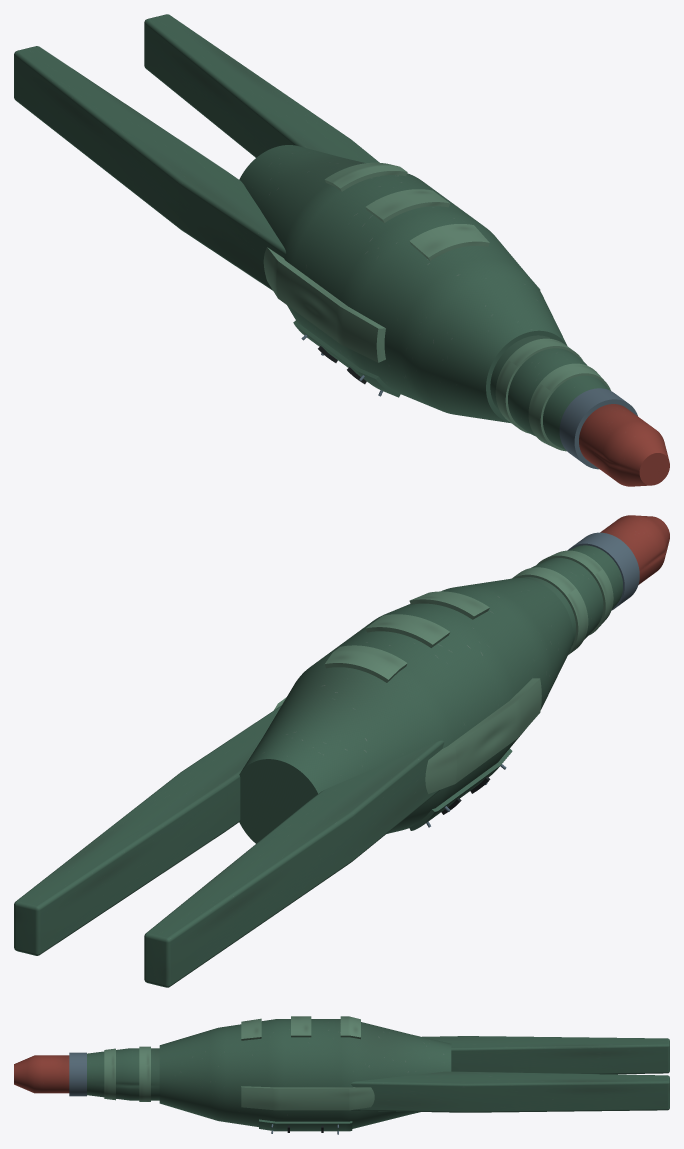
3 renders of one model, top to bottom at view 1: azimuth 30°, elevation 25°; view 2: azimuth 150°, elevation 25°; view 3: azimuth 270°, elevation 25°, orthographic. The views are drawn at different scales.
Parts seen in each view (by area): view 1: Rigellian Viral Repair green core, Rigellian Viral Repair rear prong 0, Rigellian Viral Repair rear prong 1, Rigellian Viral Repair red forward end, Rigellian Viral Repair pale body strip 1, Rigellian Viral Repair forward neck, Rigellian Viral Repair grey collar, Rigellian Viral Repair pale band 0, Rigellian Viral Repair pale body insert 0, Rigellian Viral Repair pale band 1, Rigellian Viral Repair pale body insert 1, Rigellian Viral Repair pale body insert 2 (+1 smaller); view 2: Rigellian Viral Repair green core, Rigellian Viral Repair rear prong 0, Rigellian Viral Repair rear prong 1, Rigellian Viral Repair pale body strip 1, Rigellian Viral Repair forward neck, Rigellian Viral Repair red forward end, Rigellian Viral Repair pale body insert 2, Rigellian Viral Repair grey collar, Rigellian Viral Repair pale body insert 1, Rigellian Viral Repair pale band 1, Rigellian Viral Repair pale band 0, Rigellian Viral Repair pale body insert 0 (+1 smaller); view 3: Rigellian Viral Repair green core, Rigellian Viral Repair rear prong 1, Rigellian Viral Repair rear prong 0, Rigellian Viral Repair pale body strip 0, Rigellian Viral Repair forward neck, Rigellian Viral Repair red forward end, Rigellian Viral Repair service cover 0, Rigellian Viral Repair grey collar, Rigellian Viral Repair pale band 1, Rigellian Viral Repair pale band 0, Rigellian Viral Repair pale body insert 1, Rigellian Viral Repair pale body insert 2 (+1 smaller).
Part boxes in pixels (x1=…): Rigellian Viral Repair green core: x1=239, y1=145, x2=567, y2=422; Rigellian Viral Repair rear prong 0: x1=14, y1=46, x2=285, y2=290; Rigellian Viral Repair rear prong 1: x1=144, y1=14, x2=379, y2=163; Rigellian Viral Repair red forward end: x1=579, y1=404, x2=669, y2=486; Rigellian Viral Repair pale body strip 1: x1=263, y1=247, x2=385, y2=362; Rigellian Viral Repair forward neck: x1=490, y1=335, x2=609, y2=449; Rigellian Viral Repair grey collar: x1=559, y1=388, x2=637, y2=469; Rigellian Viral Repair pale band 0: x1=528, y1=363, x2=610, y2=451; Rigellian Viral Repair pale body insert 0: x1=409, y1=224, x2=489, y2=260; Rigellian Viral Repair pale band 1: x1=495, y1=338, x2=582, y2=433; Rigellian Viral Repair pale body insert 1: x1=365, y1=189, x2=449, y2=222; Rigellian Viral Repair pale body insert 2: x1=324, y1=162, x2=407, y2=191; Rigellian Viral Repair green core: x1=239, y1=578, x2=572, y2=843; Rigellian Viral Repair rear prong 0: x1=144, y1=740, x2=444, y2=987; Rigellian Viral Repair rear prong 1: x1=14, y1=705, x2=281, y2=955; Rigellian Viral Repair pale body strip 1: x1=425, y1=678, x2=541, y2=793; Rigellian Viral Repair forward neck: x1=521, y1=545, x2=622, y2=645; Rigellian Viral Repair red forward end: x1=600, y1=515, x2=669, y2=584; Rigellian Viral Repair pale body insert 2: x1=324, y1=645, x2=407, y2=682; Rigellian Viral Repair grey collar: x1=567, y1=532, x2=639, y2=610; Rigellian Viral Repair pale body insert 1: x1=365, y1=614, x2=449, y2=647; Rigellian Viral Repair pale band 1: x1=512, y1=567, x2=588, y2=654; Rigellian Viral Repair pale band 0: x1=537, y1=550, x2=613, y2=635; Rigellian Viral Repair pale body insert 0: x1=409, y1=591, x2=489, y2=619; Rigellian Viral Repair green core: x1=159, y1=1019, x2=451, y2=1128; Rigellian Viral Repair rear prong 1: x1=351, y1=1071, x2=669, y2=1112; Rigellian Viral Repair rear prong 0: x1=422, y1=1036, x2=669, y2=1074; Rigellian Viral Repair pale body strip 0: x1=241, y1=1086, x2=374, y2=1110; Rigellian Viral Repair forward neck: x1=87, y1=1048, x2=159, y2=1100; Rigellian Viral Repair red forward end: x1=14, y1=1055, x2=69, y2=1093; Rigellian Viral Repair service cover 0: x1=259, y1=1119, x2=352, y2=1131; Rigellian Viral Repair grey collar: x1=69, y1=1052, x2=86, y2=1096; Rigellian Viral Repair pale band 1: x1=139, y1=1046, x2=150, y2=1101; Rigellian Viral Repair pale band 0: x1=104, y1=1048, x2=115, y2=1100; Rigellian Viral Repair pale body insert 1: x1=291, y1=1016, x2=311, y2=1037; Rigellian Viral Repair pale body insert 2: x1=340, y1=1016, x2=360, y2=1039.
Bounding box in the file's own units: 0.416 × 0.389 × 2.25.
Materials: 5 (3 with a texture image).
